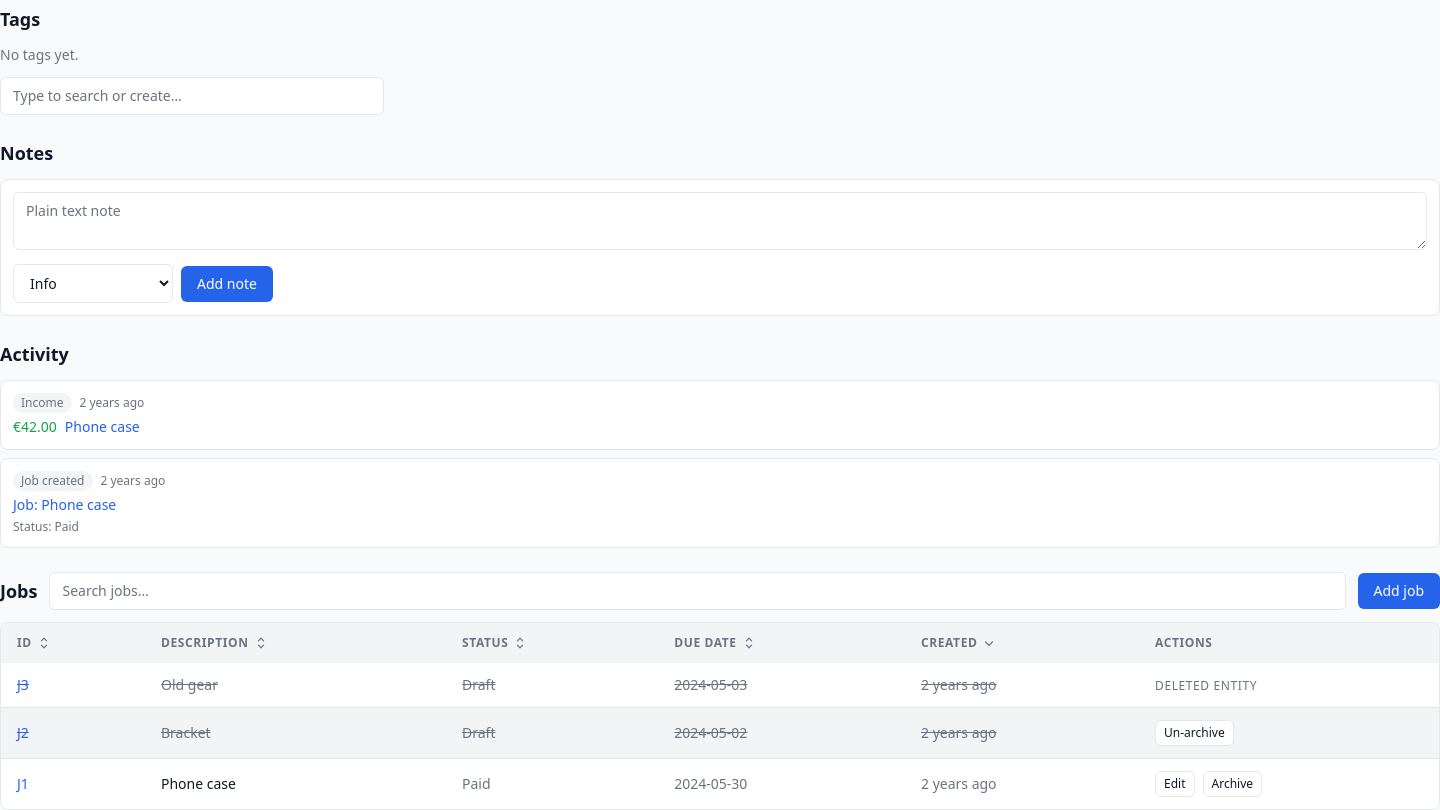
it: ClientDetailPage › creates a job with the client preset
(page scrolled)
Click the button with test id "add-job-button": [1399, 591] box [1358,573,1439,609]
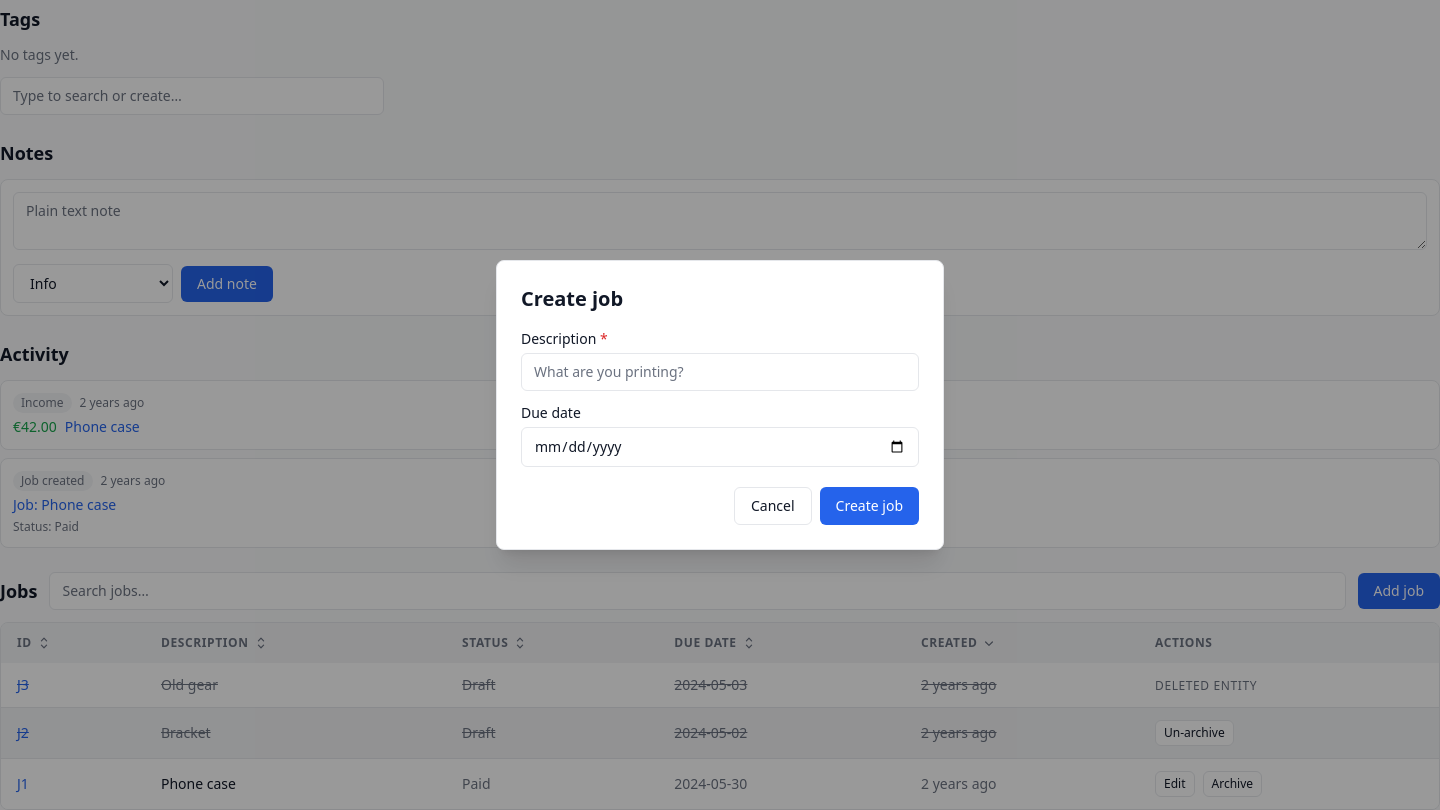
In the field labelled "Description *": [720, 372] box [521,353,919,391], type "Fresh job"
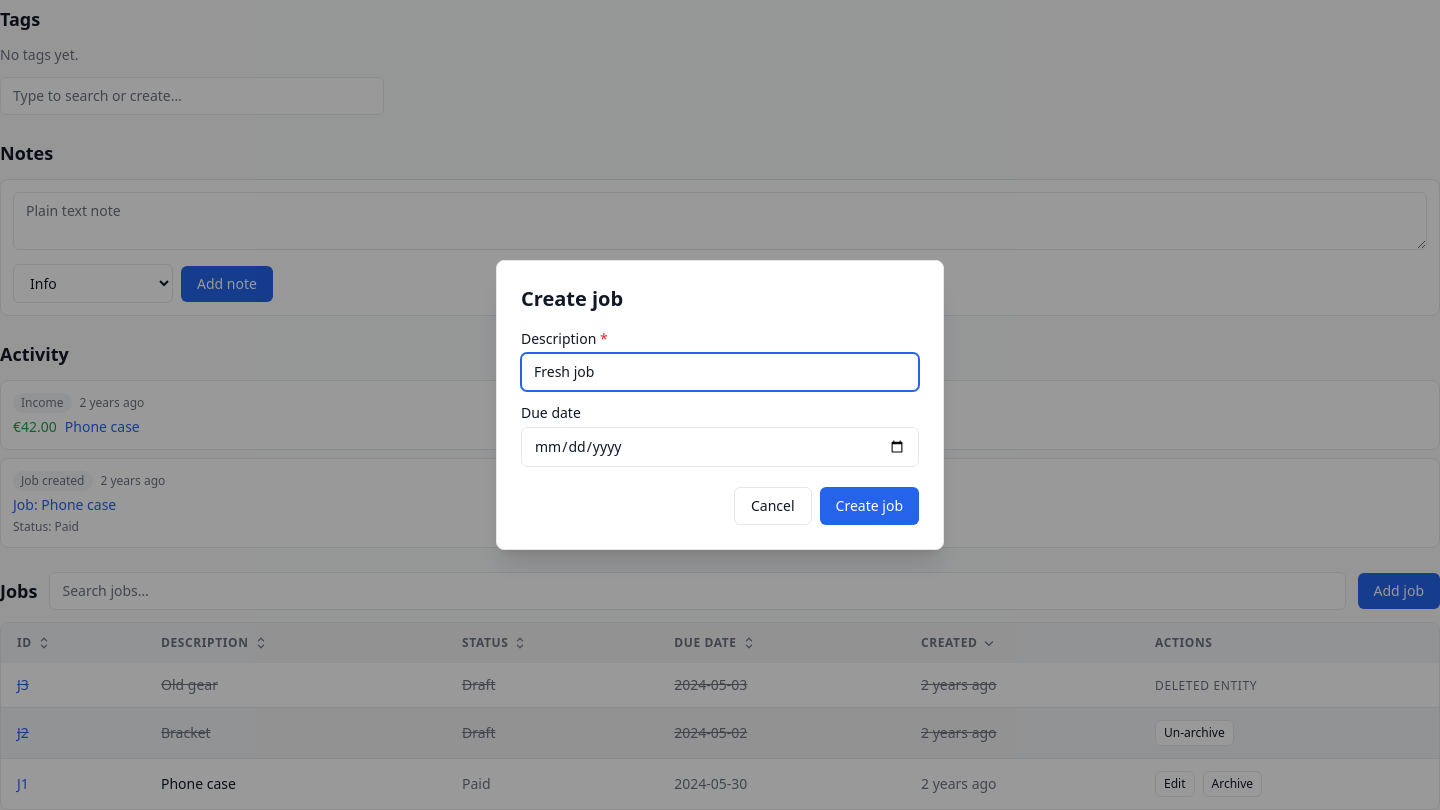
Click the button "Create job": [869, 506] box [820,487,919,525]
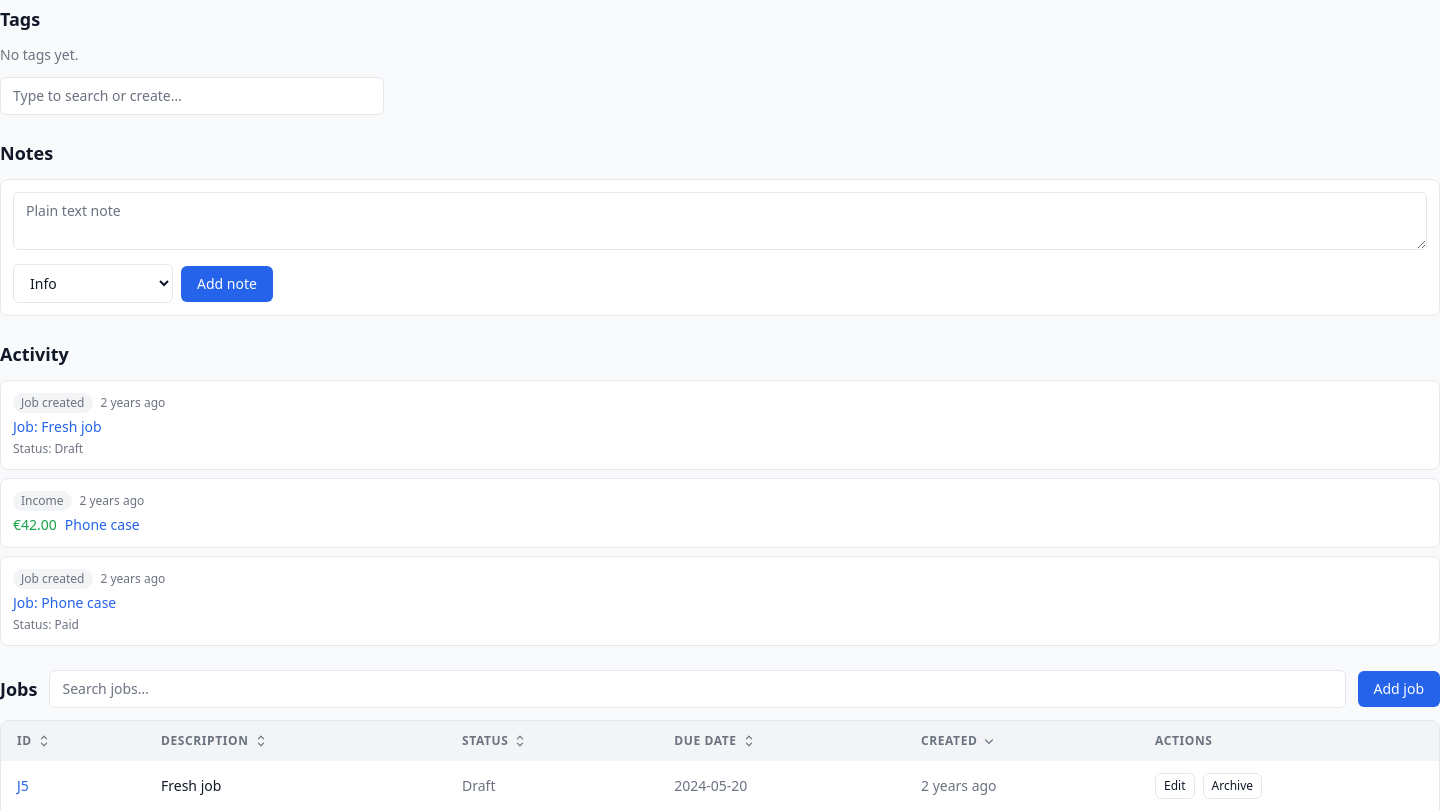
expect the link with test id "client-job-link-J5" is shown: met, box [17,776,29,795]
